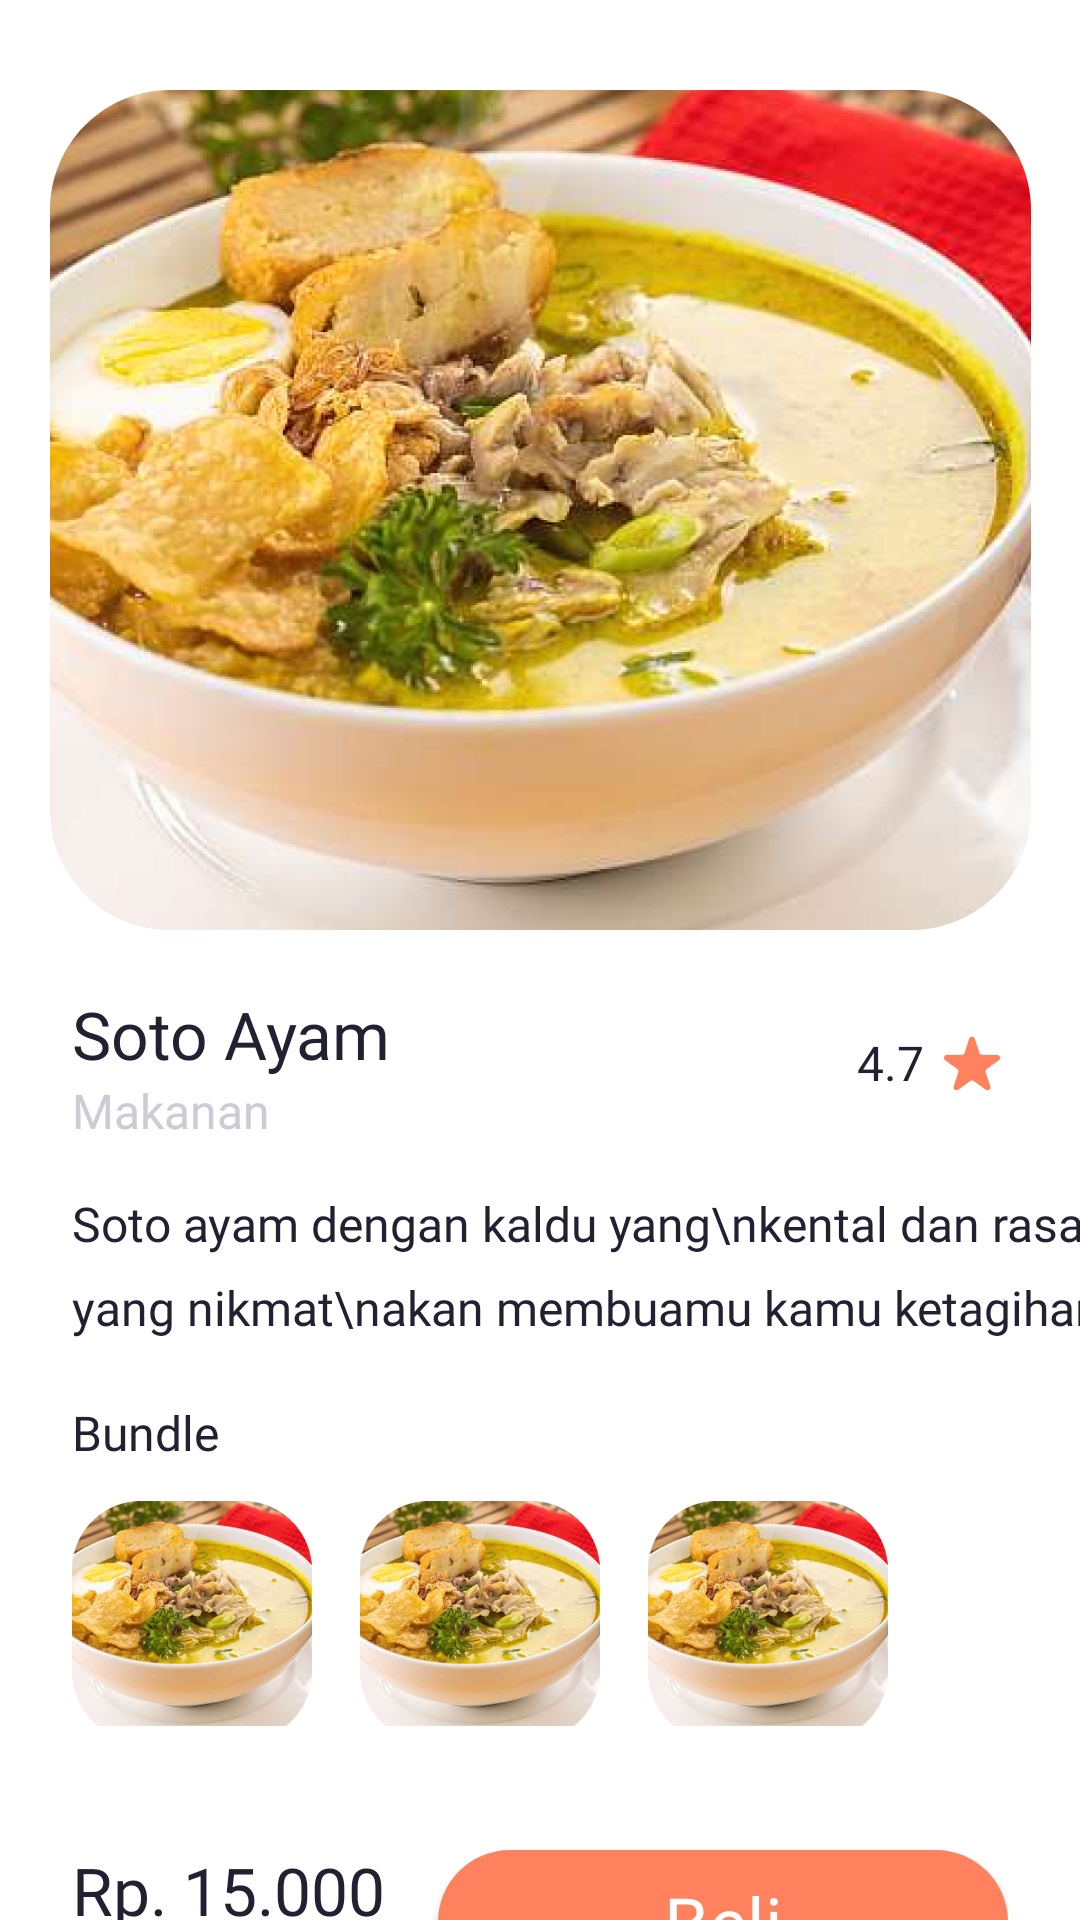

Icons on this 1080w x 1920h Android screen, each with the point to tap as point (x, y):
star: point (972, 1063)
